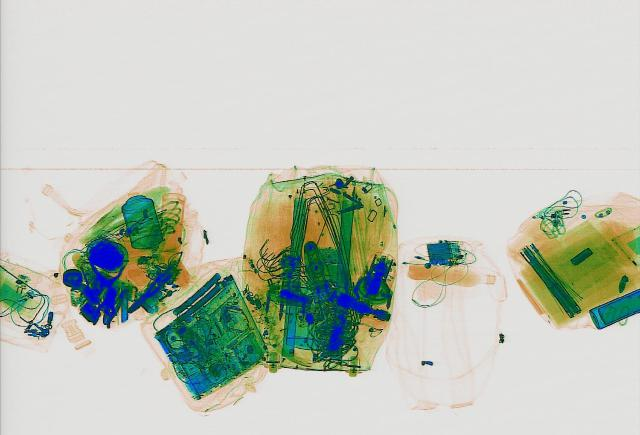Pliers: (120, 262, 182, 315)
